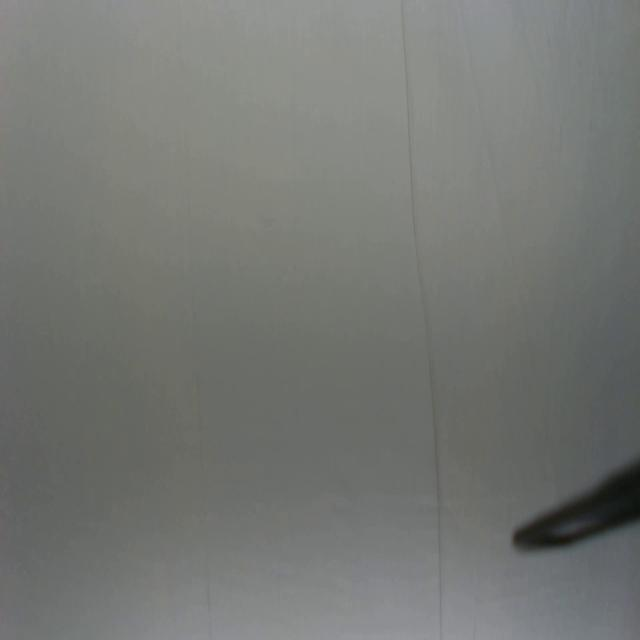crease: (399, 1, 446, 640), (196, 354, 216, 636)
